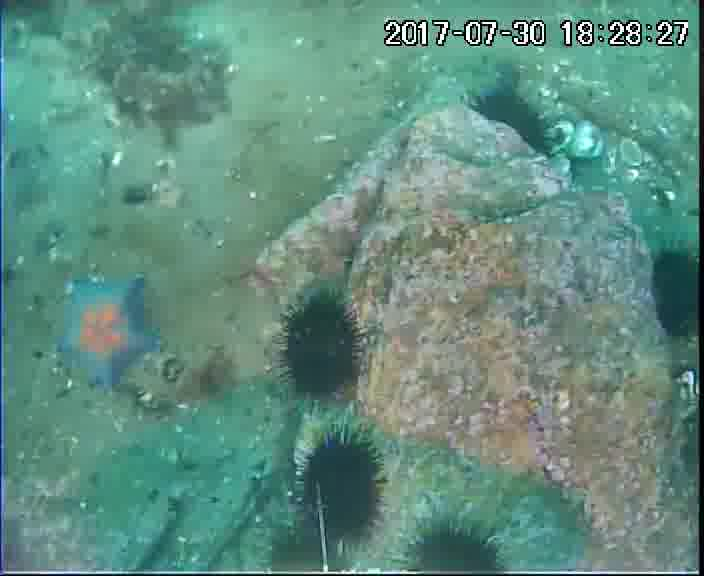echinus: (297, 426, 387, 540), (284, 292, 366, 398), (475, 87, 555, 162), (403, 521, 504, 576), (652, 247, 704, 348), (269, 525, 352, 576)
starfish: (52, 274, 163, 397)
